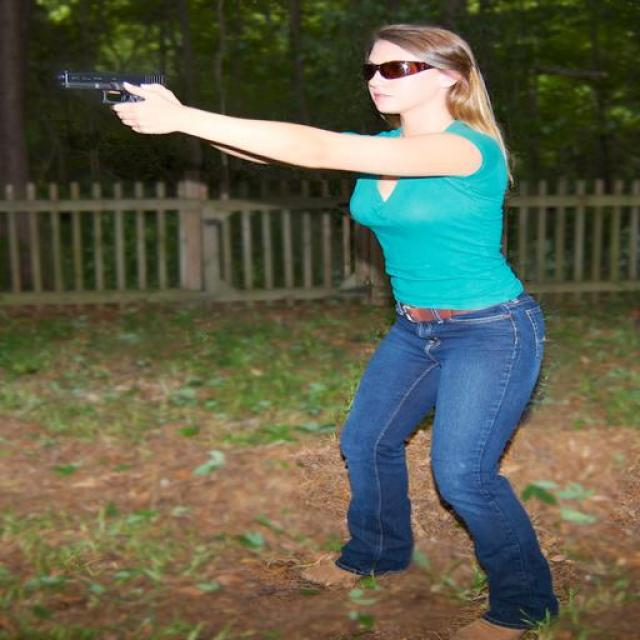pistol: (55, 68, 167, 134)
